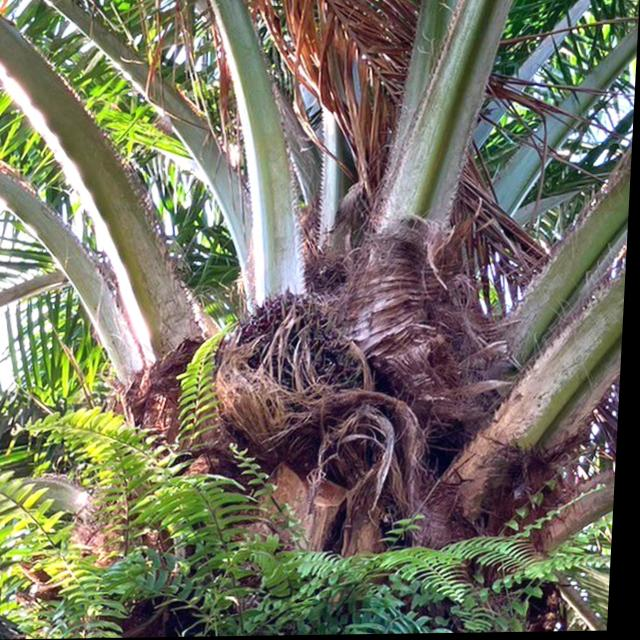almost: (197, 282, 380, 475)
